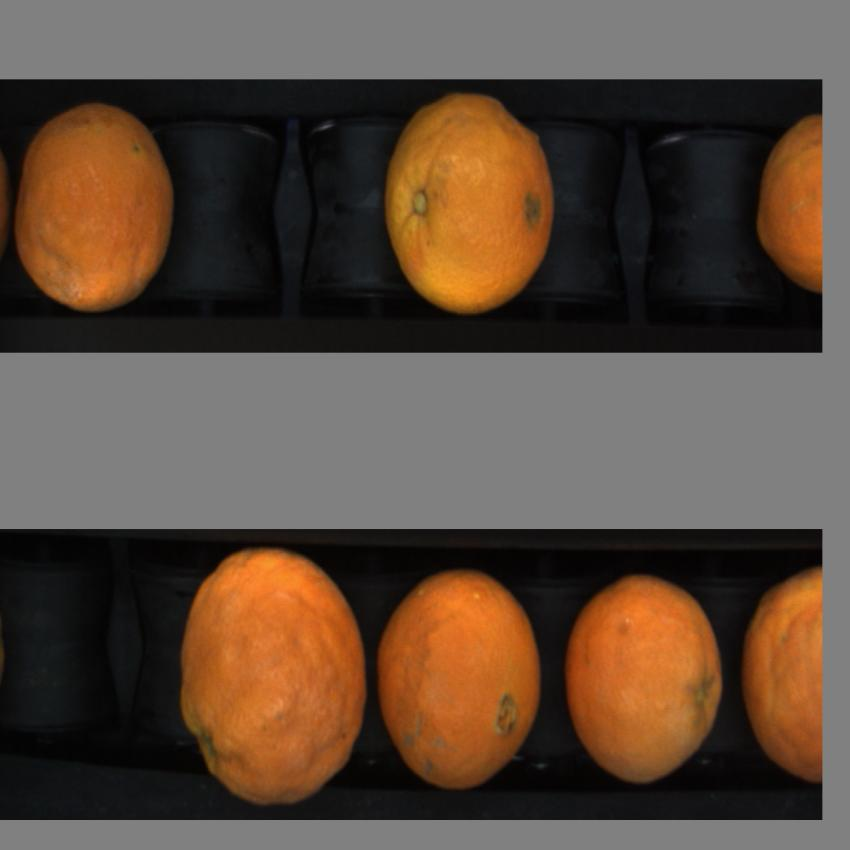Buen estado: (177, 539, 366, 806), (374, 567, 546, 795), (563, 567, 719, 785), (731, 569, 825, 781), (749, 104, 821, 308)
Mal estado: (383, 88, 560, 321), (12, 96, 178, 315)
